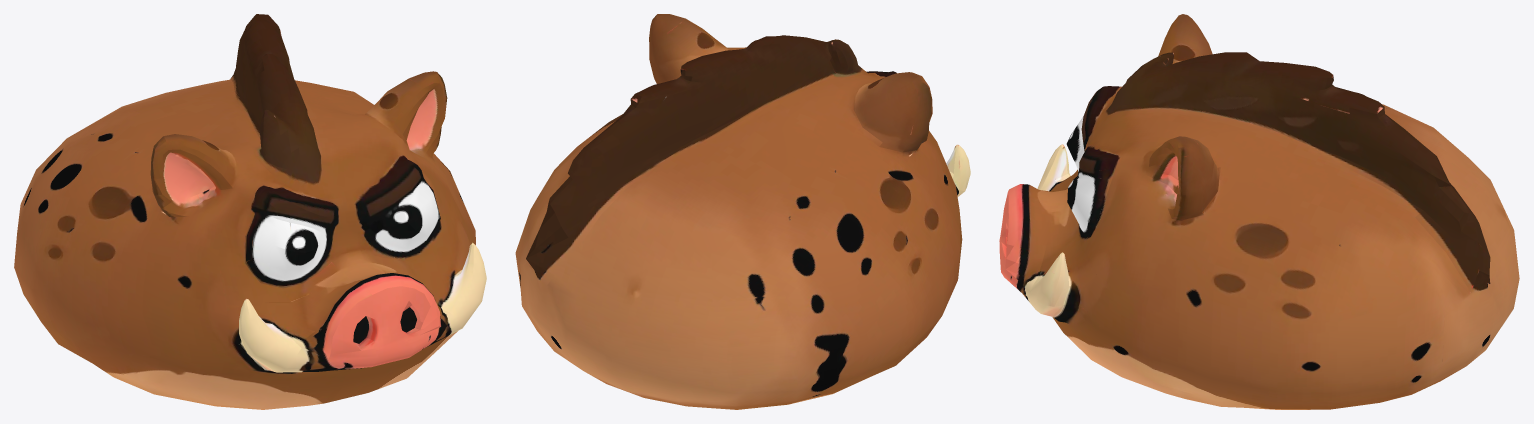
The model's file is boar.glb.
3 views of the same model, side by side, from view 1: azimuth 30°, elevation 25°; view 2: azimuth 150°, elevation 25°; view 3: azimuth 270°, elevation 25° (orthographic). The views are drawn at different scales.
Parts seen in each view (by area): view 1: Mesh0; view 2: Mesh0; view 3: Mesh0.
Part boxes in pixels (box(x1,y1,x2,y2)): Mesh0: box(14, 14, 486, 409); Mesh0: box(515, 14, 970, 409); Mesh0: box(999, 14, 1519, 409).
Bounding box in the file's own units: 1.6 × 1.17 × 1.85.
Materials: 1 (1 with a texture image).
